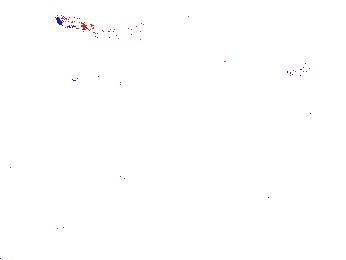glassfish: (69, 2, 221, 76)
redtail glassfish: (53, 15, 135, 43), (289, 62, 314, 117), (273, 64, 328, 82)
